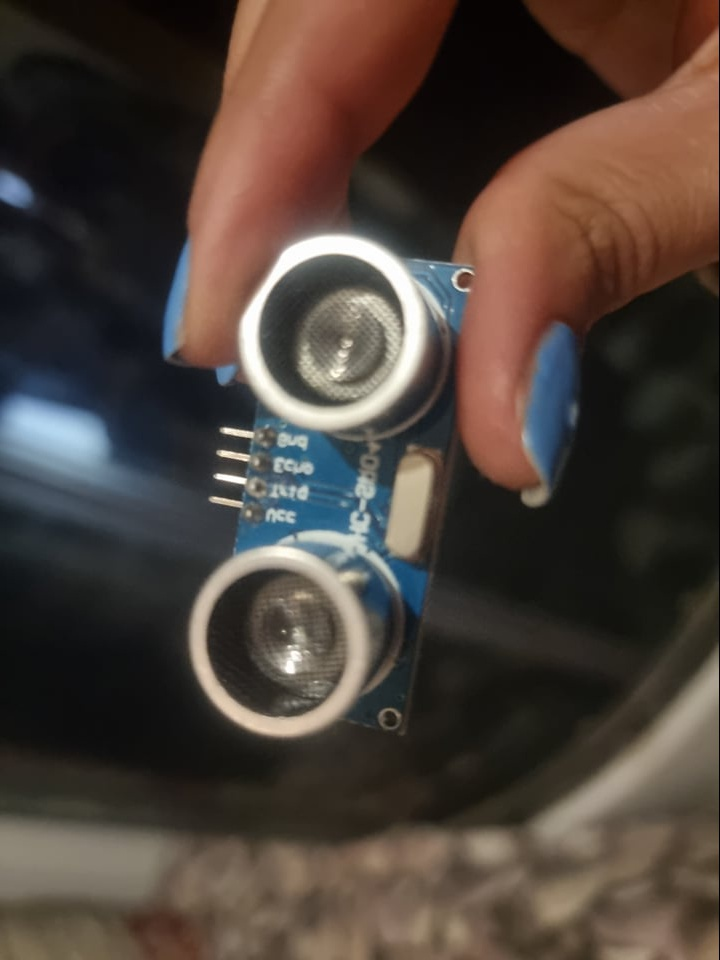SENSOR: (187, 218, 476, 749)
